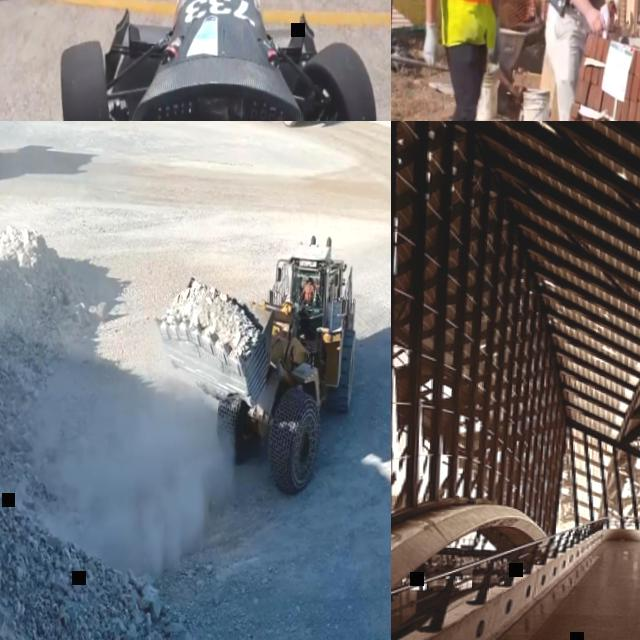helmet: (613, 0, 625, 11)
machinery: (147, 221, 369, 500)
no_helmet: (309, 280, 314, 286)
no_vest: (602, 3, 614, 37), (305, 288, 315, 303)
person: (414, 0, 509, 121), (536, 0, 616, 121), (602, 0, 625, 35), (301, 279, 318, 303)
vehicle: (35, 0, 391, 121)
vest: (420, 0, 501, 49)
